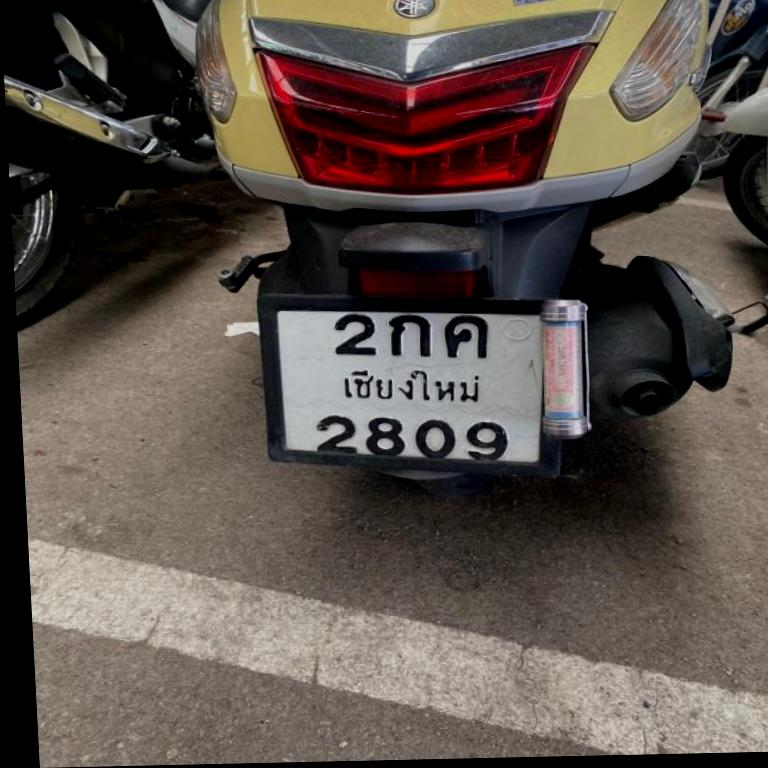license plate: (259, 297, 552, 472)
